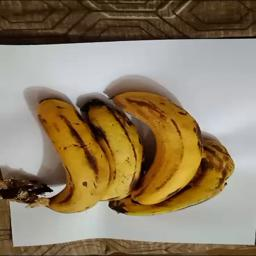Banana Semifresh: (108, 84, 233, 219), (29, 91, 106, 218), (89, 87, 143, 212)
